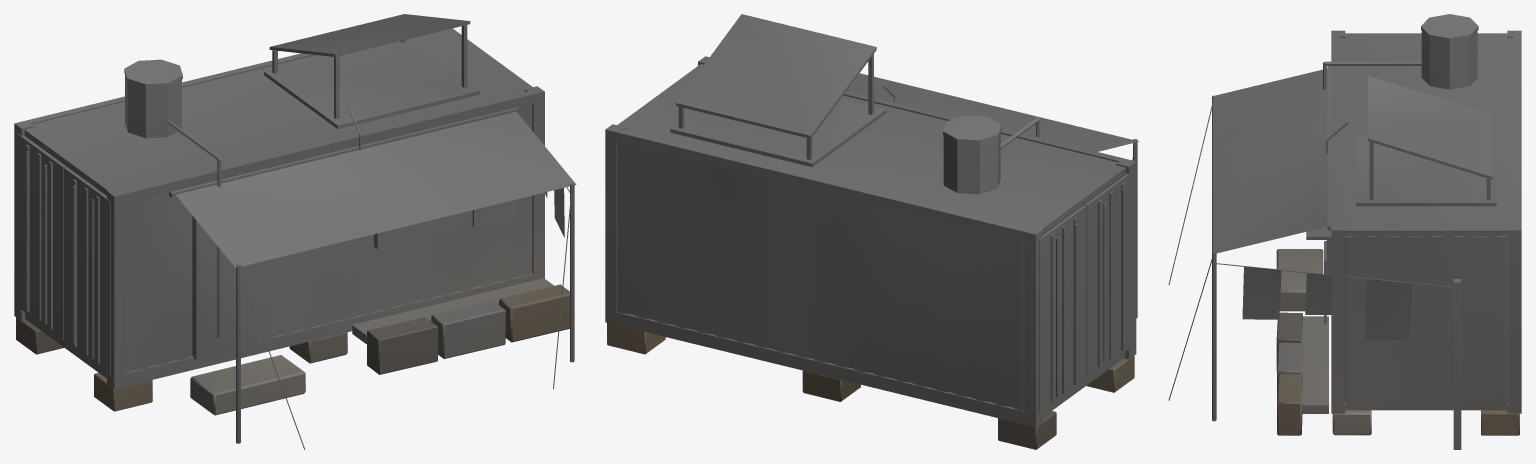
File: WallHomeC_LOD1.glb
3 views of the same model, side by side, from view 1: azimuth 30°, elevation 25°; view 2: azimuth 150°, elevation 25°; view 3: azimuth 270°, elevation 25° (orthographic). The views are drawn at different scales.
Parts seen in each view (by area): view 1: WallHomeC_Metal_LOD1, WallHomeC_Canvas_LOD1, WallHomeC_Rubble_LOD1, WallHomeC_Sand_LOD1; view 2: WallHomeC_Metal_LOD1, WallHomeC_Canvas_LOD1, WallHomeC_Rubble_LOD1; view 3: WallHomeC_Metal_LOD1, WallHomeC_Canvas_LOD1, WallHomeC_Rubble_LOD1, WallHomeC_Sand_LOD1.
Boxes of the visible parts, bbox=[...] form: WallHomeC_Metal_LOD1: bbox=[14, 14, 574, 449]; WallHomeC_Canvas_LOD1: bbox=[175, 111, 576, 267]; WallHomeC_Rubble_LOD1: bbox=[16, 284, 569, 415]; WallHomeC_Sand_LOD1: bbox=[352, 278, 553, 344]; WallHomeC_Metal_LOD1: bbox=[605, 14, 1137, 427]; WallHomeC_Canvas_LOD1: bbox=[847, 73, 1139, 151]; WallHomeC_Rubble_LOD1: bbox=[607, 323, 1134, 449]; WallHomeC_Metal_LOD1: bbox=[1168, 14, 1521, 449]; WallHomeC_Canvas_LOD1: bbox=[1212, 69, 1411, 339]; WallHomeC_Rubble_LOD1: bbox=[1276, 249, 1519, 435]; WallHomeC_Sand_LOD1: bbox=[1301, 316, 1328, 413].
Bounding box in the file's own units: 6.56 × 3.85 × 4.53.
